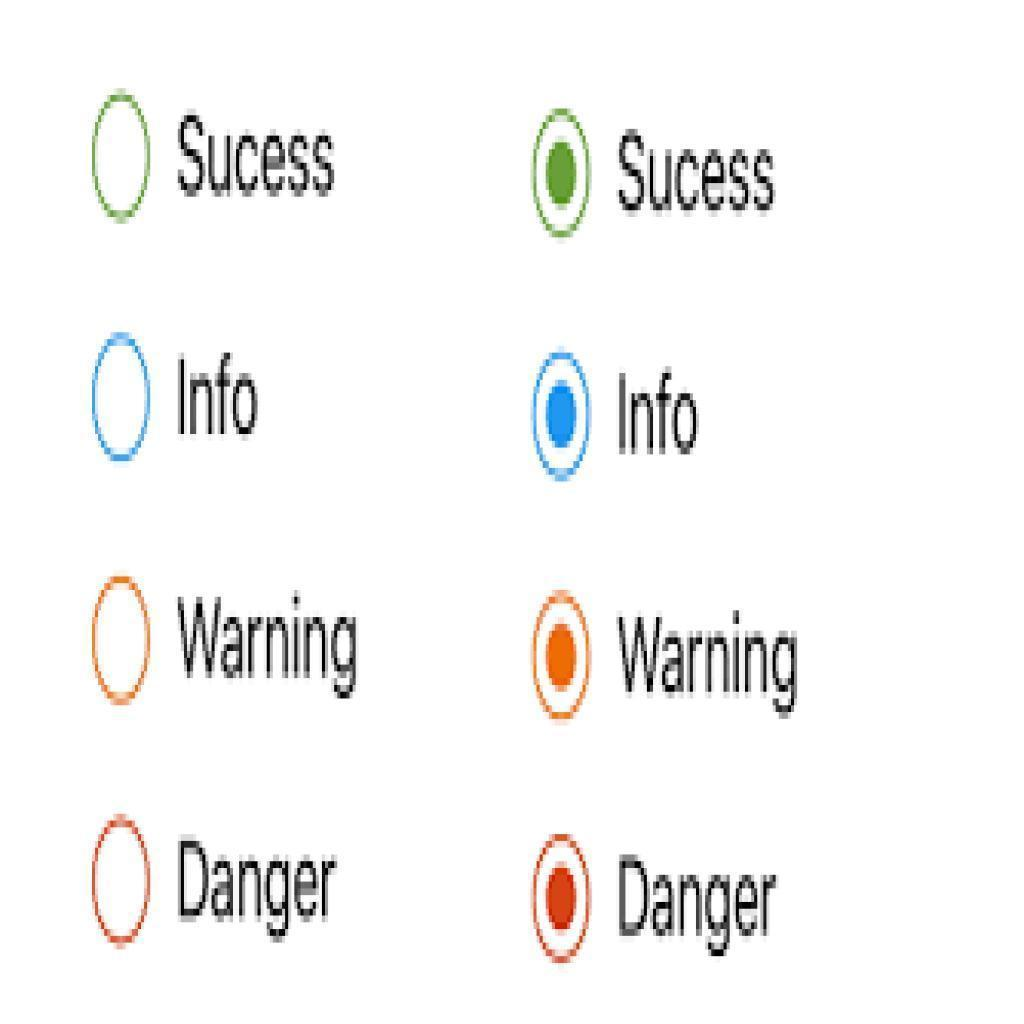radio: (523, 588, 604, 724), (82, 330, 159, 473), (86, 88, 159, 232), (526, 831, 598, 964), (527, 104, 594, 245), (87, 816, 155, 953), (526, 351, 597, 482), (90, 576, 154, 709)
